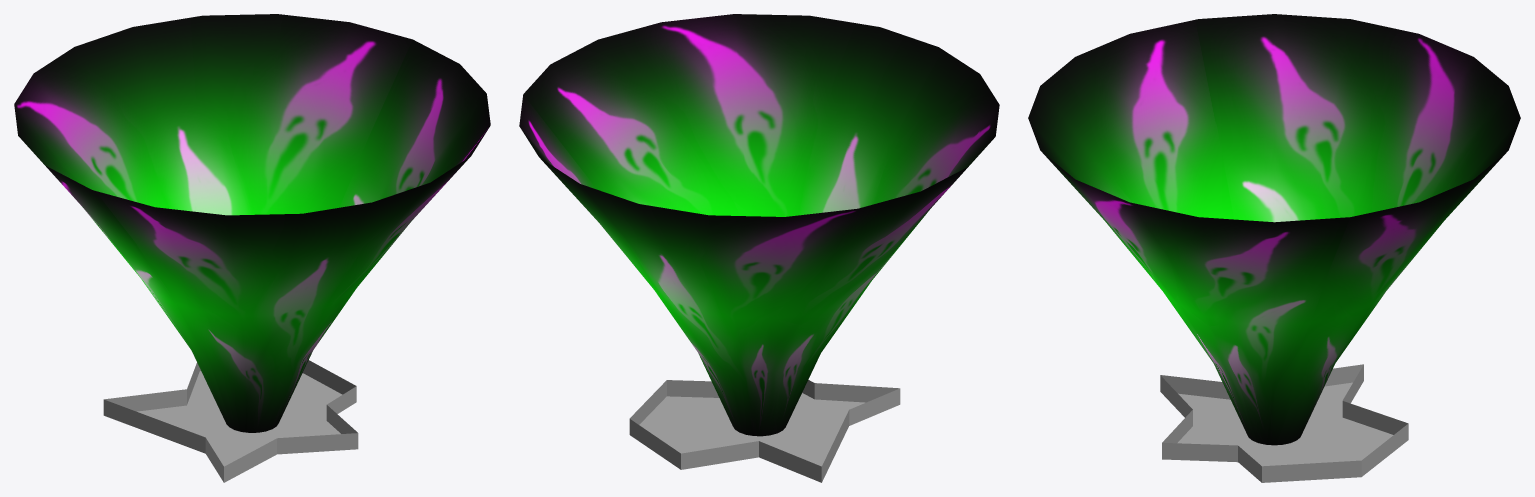
The model's file is SoulsFX.fbx.
3 renders of one model, left to right at view 1: azimuth 30°, elevation 25°; view 2: azimuth 150°, elevation 25°; view 3: azimuth 270°, elevation 25°, orthographic. The views are drawn at different scales.
Visible parts, largest first — view 1: SoulsHole, SoulsGround; view 2: SoulsHole, SoulsGround; view 3: SoulsHole, SoulsGround.
Boxes of the visible parts, x1=… form: SoulsHole: x1=14, y1=14, x2=490, y2=432; SoulsGround: x1=103, y1=360, x2=358, y2=482; SoulsHole: x1=519, y1=14, x2=999, y2=436; SoulsGround: x1=629, y1=380, x2=900, y2=482; SoulsHole: x1=1028, y1=14, x2=1520, y2=445; SoulsGround: x1=1160, y1=364, x2=1408, y2=482.
Bounding box in the file's own units: 283 × 200 × 283.
